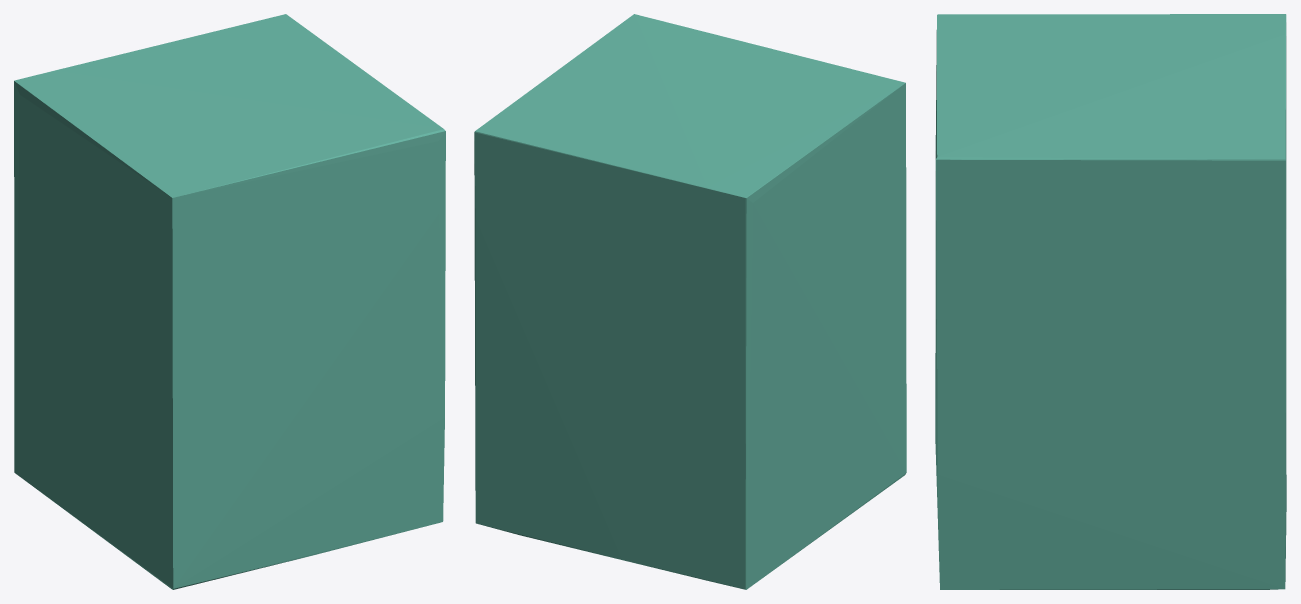
File: box_corrugated_brown_b22.glb
3 views of the same model, side by side, from view 1: azimuth 30°, elevation 25°; view 2: azimuth 150°, elevation 25°; view 3: azimuth 270°, elevation 25° (orthographic). The views are drawn at different scales.
Parts seen in each view (by area): view 1: geometry_0; view 2: geometry_0; view 3: geometry_0.
Boxes of the visible parts, x1,y1,x2,y2 form: geometry_0: (14, 14, 445, 589); geometry_0: (474, 14, 906, 589); geometry_0: (935, 14, 1286, 589).
Size of the model in its own units: 0.3469 by 0.4795 by 0.3519.
